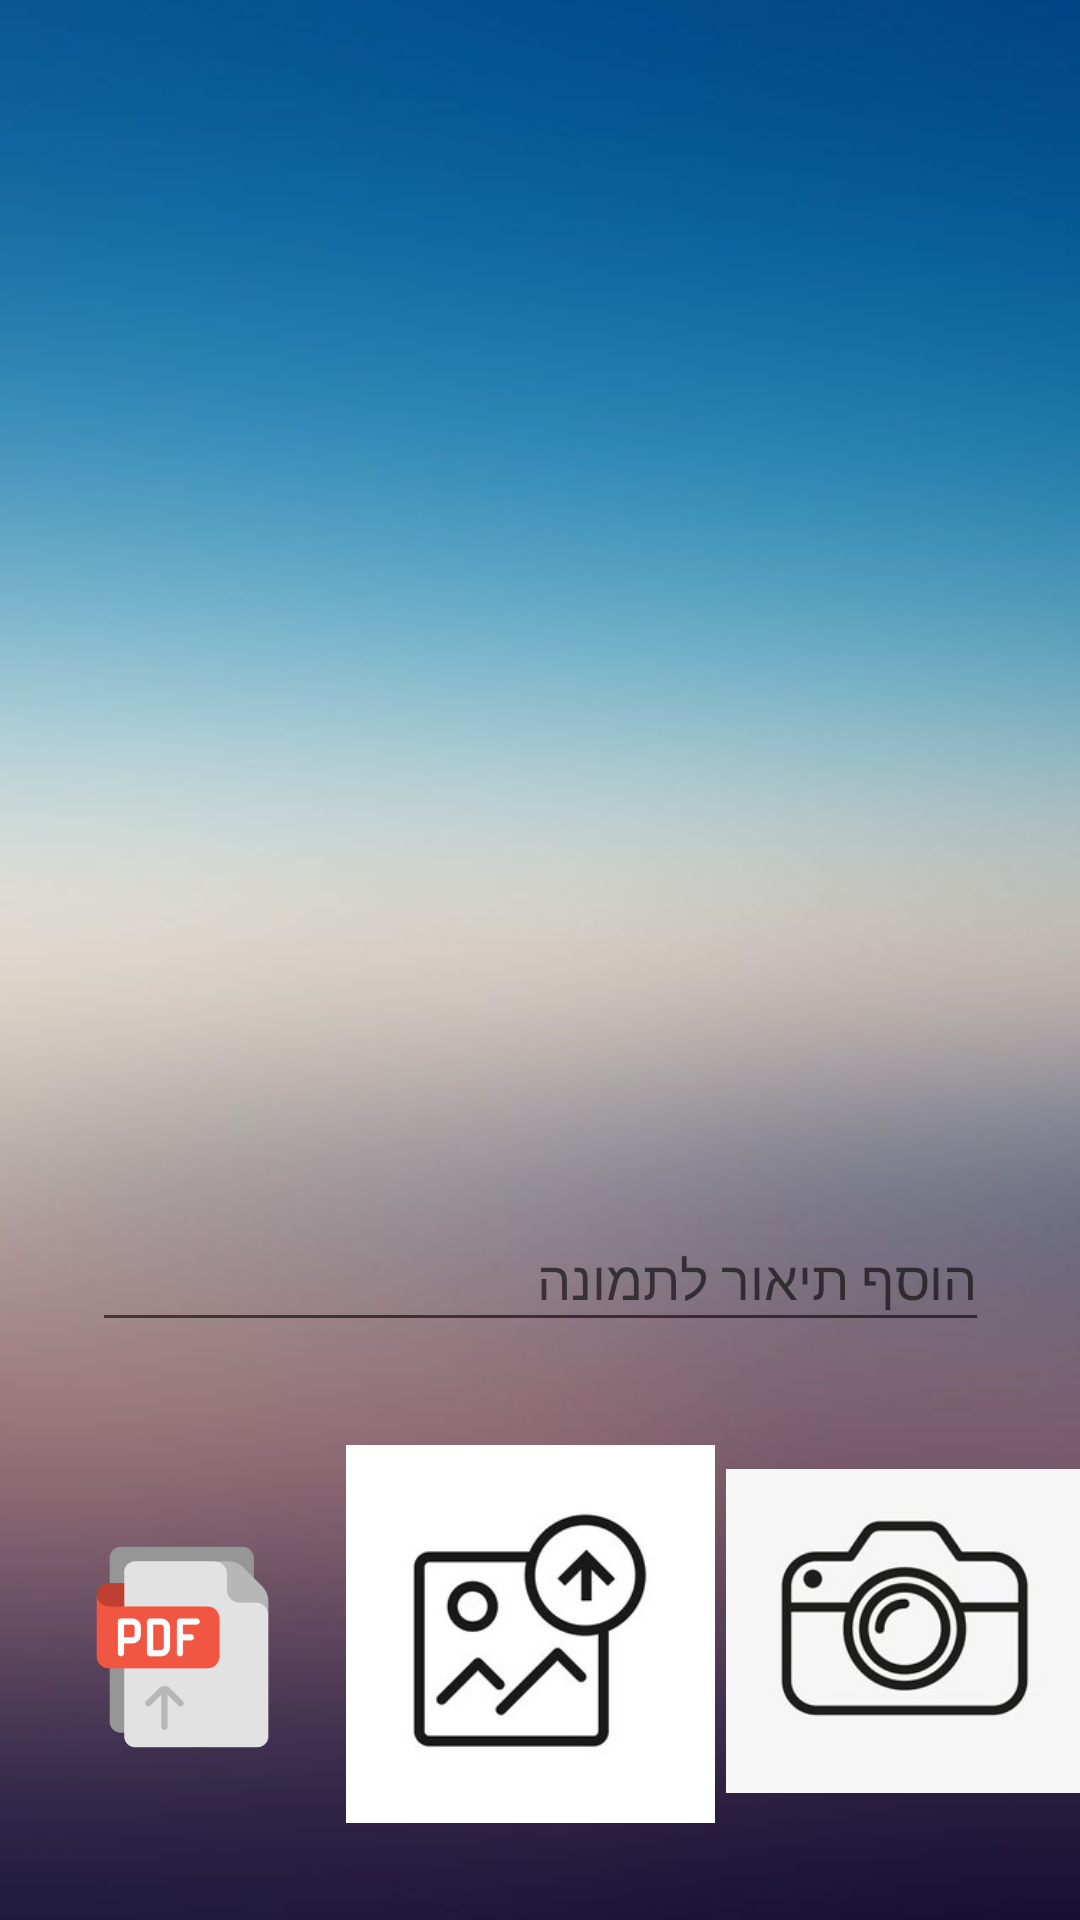

Icons on this 1080×1920 Android screen, each with the point to tap as (x=x, y=y):
camera: (x=902, y=1631)
upload pdf: (x=182, y=1647)
